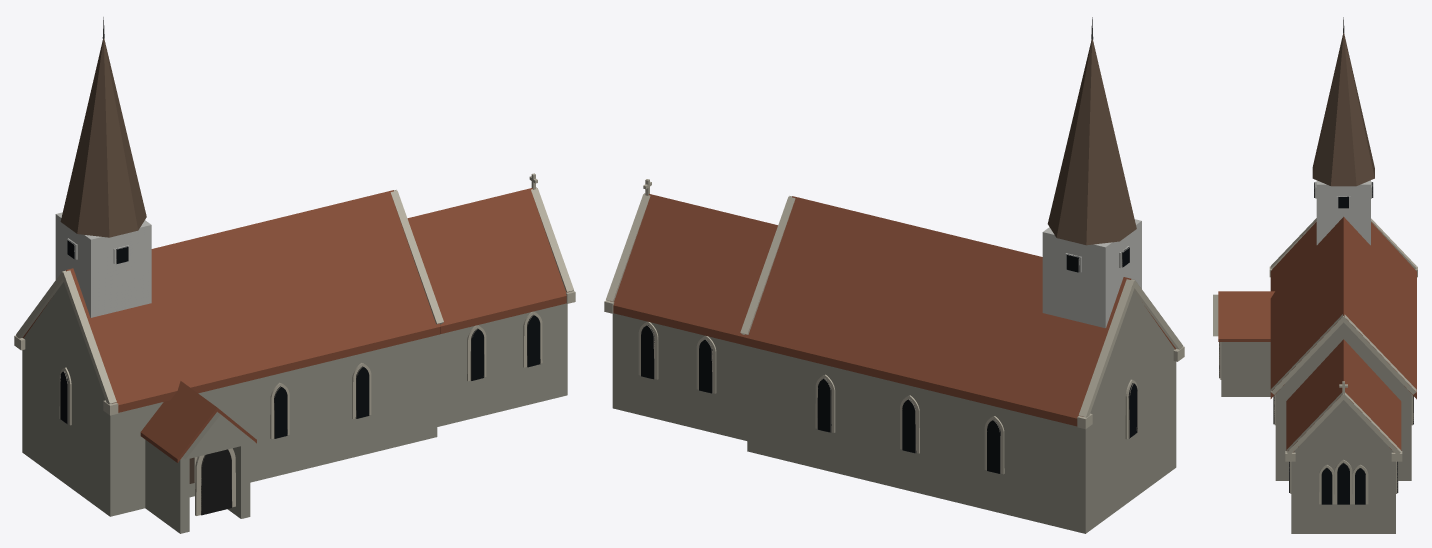
The model's file is context.church.se_belfry.glb.
The picture shows the model from 3 angles, left to right: view 1: azimuth 30°, elevation 25°; view 2: azimuth 150°, elevation 25°; view 3: azimuth 270°, elevation 25°; orthographic projection. The views are drawn at different scales.
Visible parts, largest first — view 1: main__clad_843, main__stone_998, main__timber_654, main__stone_ba9, main__timber_bbb, main__glass_dark, main__timber_111; view 2: main__clad_843, main__stone_998, main__timber_654, main__stone_ba9, main__timber_bbb, main__glass_dark, main__stone_887; view 3: main__clad_843, main__stone_998, main__timber_654, main__stone_ba9, main__timber_bbb, main__glass_dark, main__stone_887.
Part boxes in pixels (x1=…): main__clad_843: x1=22, y1=188, x2=568, y2=462; main__stone_998: x1=22, y1=282, x2=567, y2=533; main__timber_654: x1=60, y1=39, x2=146, y2=237; main__stone_ba9: x1=14, y1=173, x2=575, y2=515; main__timber_bbb: x1=55, y1=212, x2=151, y2=317; main__glass_dark: x1=60, y1=240, x2=540, y2=438; main__timber_111: x1=201, y1=449, x2=231, y2=515; main__clad_843: x1=610, y1=194, x2=1175, y2=426; main__stone_998: x1=612, y1=291, x2=1176, y2=533; main__timber_654: x1=1047, y1=39, x2=1136, y2=245; main__stone_ba9: x1=604, y1=179, x2=1184, y2=474; main__timber_bbb: x1=1042, y1=219, x2=1141, y2=328; main__glass_dark: x1=641, y1=247, x2=1137, y2=473; main__stone_887: x1=640, y1=325, x2=1137, y2=473; main__clad_843: x1=1218, y1=216, x2=1416, y2=452; main__stone_998: x1=1213, y1=294, x2=1411, y2=533; main__timber_654: x1=1312, y1=33, x2=1374, y2=186; main__stone_ba9: x1=1220, y1=218, x2=1417, y2=504; main__timber_bbb: x1=1315, y1=180, x2=1371, y2=245; main__glass_dark: x1=1273, y1=182, x2=1413, y2=504; main__stone_887: x1=1219, y1=342, x2=1413, y2=492.
Size of the model in its own units: 20.35 by 18.87 by 9.8.
